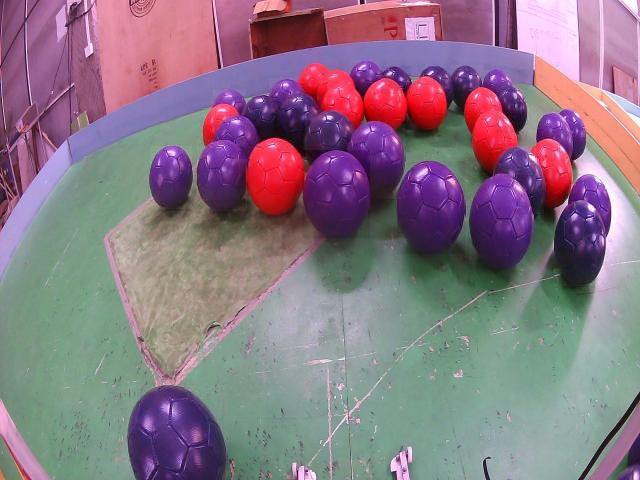jambhalya: (397, 162, 465, 254), (470, 175, 533, 270), (303, 150, 370, 238), (347, 122, 405, 199), (197, 140, 247, 211), (150, 146, 192, 209), (536, 110, 586, 161), (569, 174, 611, 234), (214, 115, 259, 159), (537, 113, 572, 157), (350, 60, 381, 98), (270, 79, 303, 108), (213, 90, 246, 115), (483, 70, 512, 93)
kaalyya: (127, 385, 227, 480), (554, 200, 606, 286), (494, 146, 544, 214), (305, 110, 355, 162), (277, 94, 320, 153), (243, 95, 280, 140), (497, 87, 528, 133), (452, 65, 482, 110), (421, 66, 454, 105), (382, 67, 411, 94)
